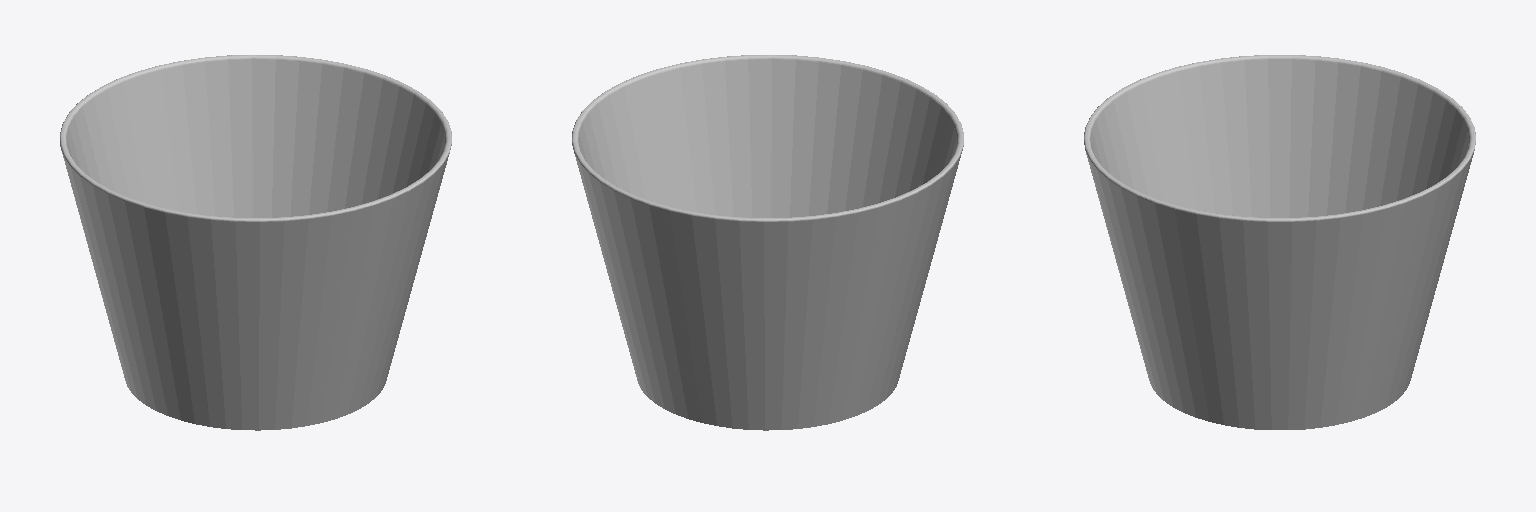
Rendered from bowl x1.obj.
3 renders of one model, left to right at view 1: azimuth 30°, elevation 25°; view 2: azimuth 150°, elevation 25°; view 3: azimuth 270°, elevation 25°, orthographic.
Visible parts, largest first — view 1: Mesh1 Group3 Group2 Group1 Model; view 2: Mesh1 Group3 Group2 Group1 Model; view 3: Mesh1 Group3 Group2 Group1 Model.
Boxes of the visible parts, box(x1,y1,x2,y2) form: Mesh1 Group3 Group2 Group1 Model: box(60, 55, 451, 430); Mesh1 Group3 Group2 Group1 Model: box(572, 55, 963, 430); Mesh1 Group3 Group2 Group1 Model: box(1084, 55, 1475, 429).
Size of the model in its own units: 0.1542 by 0.1033 by 0.1545.